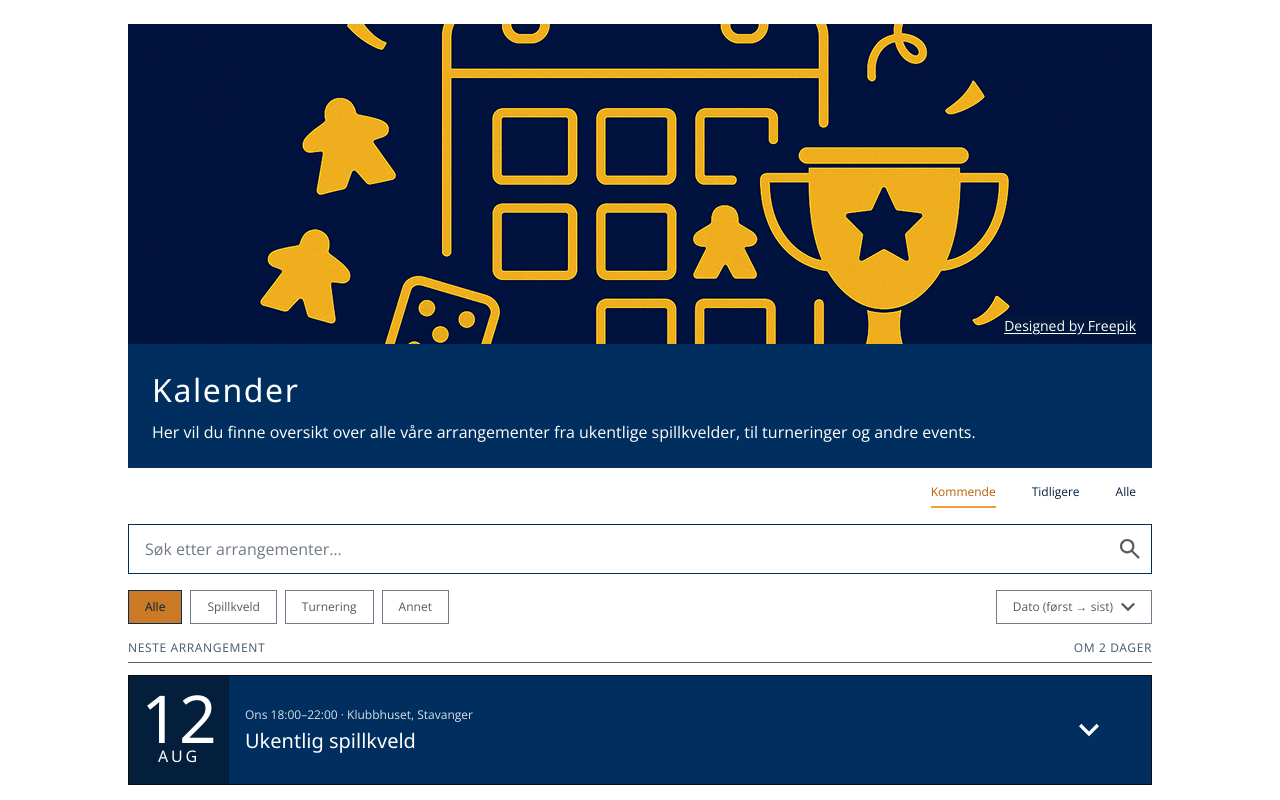
Test: CalendarSection › filters by category
The image size is (1280, 800).
Click the button "Turnering" at (329, 607), box x1=285 y1=590 x2=374 y2=624
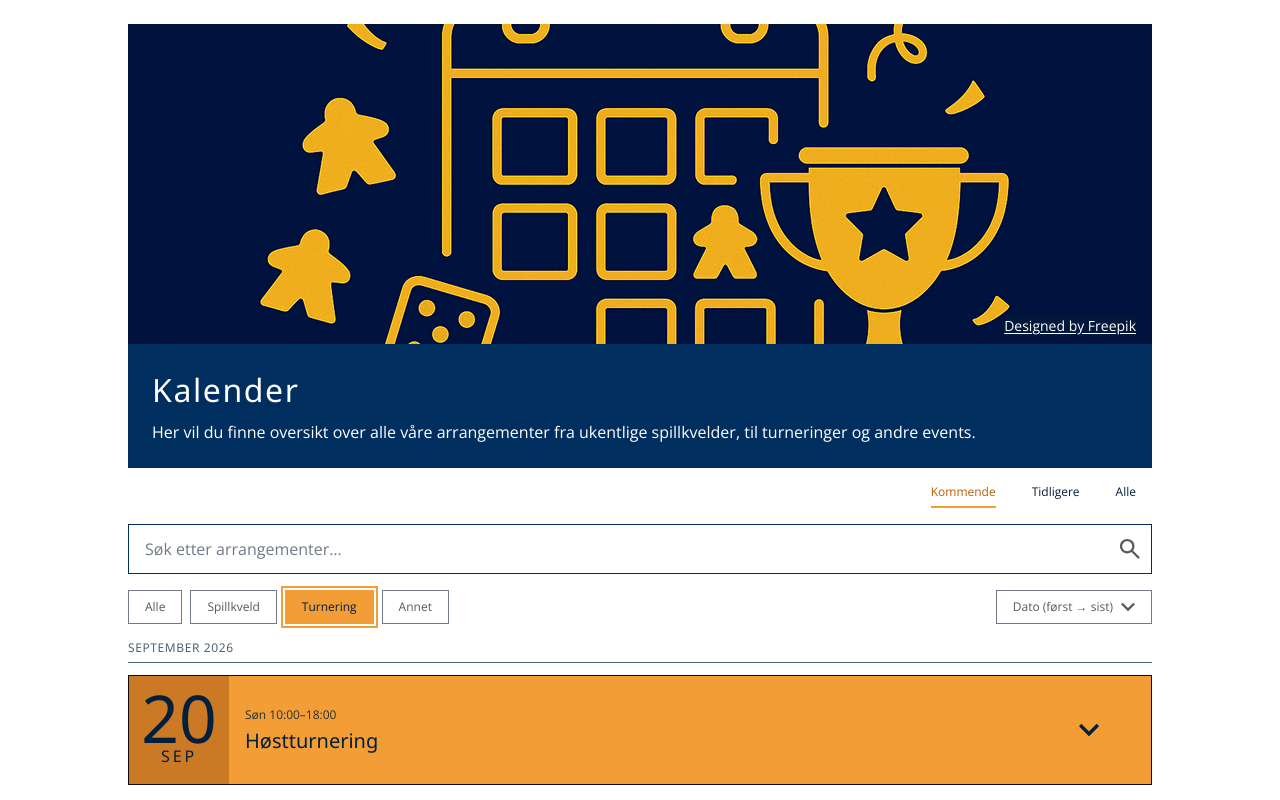
Now the heading "Høstturnering" is shown, box x1=245 y1=726 x2=378 y2=754
Now the heading "Ukentlig spillkveld" is gone
